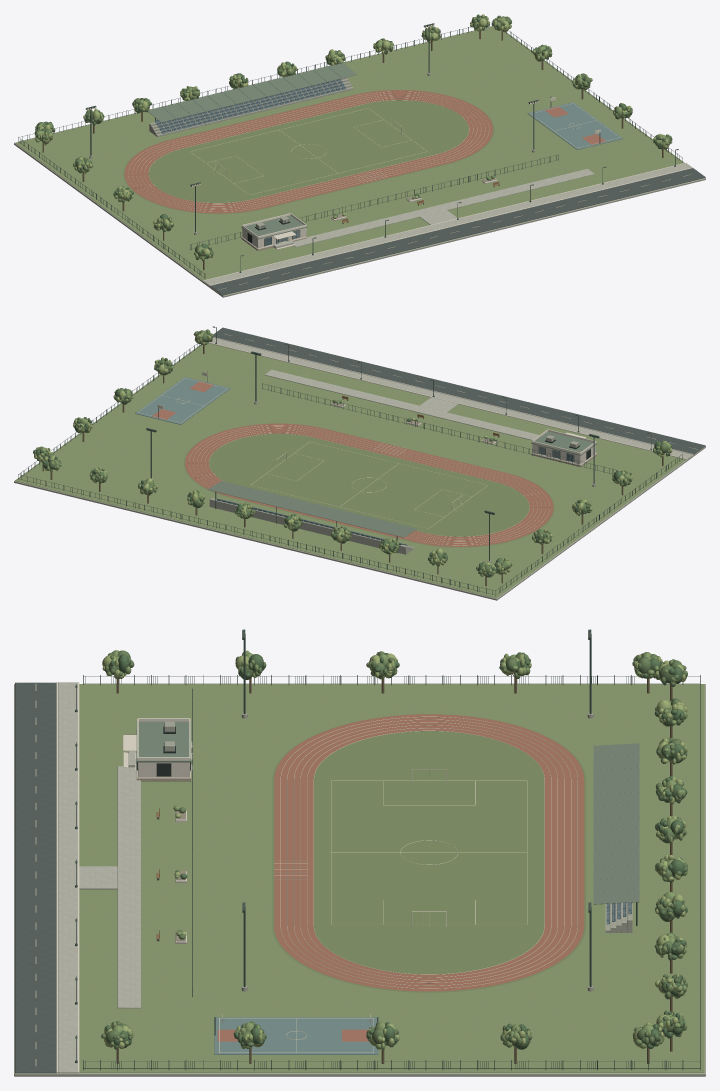
File: athletics-intact.glb
The picture shows the model from 3 angles, top to bottom: view 1: azimuth 30°, elevation 25°; view 2: azimuth 150°, elevation 25°; view 3: azimuth 270°, elevation 25°; orthographic projection. The views are drawn at different scales.
Visible parts, largest first — view 1: 材质批次_grass, 材质批次_athletics_playing_turf, 材质批次_athletics_ochre_track, 材质批次_asphalt, 材质批次_plaza_paving, 材质批次_poi_marking, 材质批次_poi_service_concrete, 材质批次_sage_metal_roof, 材质批次_street_metal, 材质批次_poi_desaturated_blue, 材质批次_school_court, 材质批次_warm_cream_trim (+4 smaller); view 2: 材质批次_grass, 材质批次_athletics_playing_turf, 材质批次_athletics_ochre_track, 材质批次_asphalt, 材质批次_plaza_paving, 材质批次_street_metal, 材质批次_poi_marking, 材质批次_poi_service_concrete, 材质批次_sage_metal_roof, 材质批次_school_court, 材质批次_warm_cream_trim, 材质批次_leaf_1 (+4 smaller); view 3: 材质批次_grass, 材质批次_athletics_playing_turf, 材质批次_athletics_ochre_track, 材质批次_asphalt, 材质批次_plaza_paving, 材质批次_sage_metal_roof, 材质批次_poi_marking, 材质批次_street_metal, 材质批次_school_court, 材质批次_poi_service_concrete, 材质批次_leaf_1, 材质批次_leaf_3 (+5 smaller).
Boxes of the visible parts, x1=… form: 材质批次_grass: x1=15, y1=26, x2=684, y2=280; 材质批次_athletics_playing_turf: x1=123, y1=90, x2=494, y2=214; 材质批次_athletics_ochre_track: x1=124, y1=90, x2=492, y2=213; 材质批次_asphalt: x1=210, y1=168, x2=705, y2=295; 材质批次_plaza_paving: x1=203, y1=163, x2=692, y2=285; 材质批次_poi_marking: x1=128, y1=91, x2=691, y2=289; 材质批次_poi_service_concrete: x1=14, y1=33, x2=705, y2=297; 材质批次_sage_metal_roof: x1=147, y1=63, x2=357, y2=239; 材质批次_street_metal: x1=18, y1=21, x2=682, y2=278; 材质批次_poi_desaturated_blue: x1=155, y1=79, x2=346, y2=133; 材质批次_school_court: x1=527, y1=102, x2=623, y2=149; 材质批次_warm_cream_trim: x1=203, y1=162, x2=692, y2=285; 材质批次_grass: x1=15, y1=343, x2=685, y2=598; 材质批次_athletics_playing_turf: x1=184, y1=423, x2=554, y2=547; 材质批次_athletics_ochre_track: x1=185, y1=423, x2=553, y2=546; 材质批次_asphalt: x1=213, y1=327, x2=705, y2=454; 材质批次_plaza_paving: x1=209, y1=338, x2=692, y2=459; 材质批次_street_metal: x1=18, y1=326, x2=682, y2=595; 材质批次_poi_marking: x1=138, y1=334, x2=697, y2=545; 材质批次_poi_service_concrete: x1=14, y1=345, x2=705, y2=600; 材质批次_sage_metal_roof: x1=207, y1=431, x2=597, y2=537; 材质批次_school_court: x1=135, y1=377, x2=230, y2=424; 材质批次_warm_cream_trim: x1=208, y1=337, x2=693, y2=465; 材质批次_leaf_1: x1=33, y1=330, x2=669, y2=576; 材质批次_grass: x1=79, y1=684, x2=704, y2=1072; 材质批次_athletics_playing_turf: x1=272, y1=714, x2=585, y2=992; 材质批次_athletics_ochre_track: x1=274, y1=714, x2=584, y2=991; 材质批次_asphalt: x1=15, y1=682, x2=56, y2=1073; 材质批次_plaza_paving: x1=58, y1=682, x2=140, y2=1073; 材质批次_sage_metal_roof: x1=136, y1=721, x2=639, y2=904; 材质批次_poi_marking: x1=35, y1=684, x2=577, y2=1065; 材质批次_street_metal: x1=75, y1=629, x2=700, y2=1070; 材质批次_school_court: x1=214, y1=1017, x2=378, y2=1054; 材质批次_poi_service_concrete: x1=14, y1=684, x2=705, y2=1076; 材质批次_leaf_1: x1=101, y1=650, x2=687, y2=1049; 材质批次_leaf_3: x1=102, y1=652, x2=687, y2=1049.
Size of the model in its own units: 160 by 16.8 by 120.
28 materials, 5 textured.
